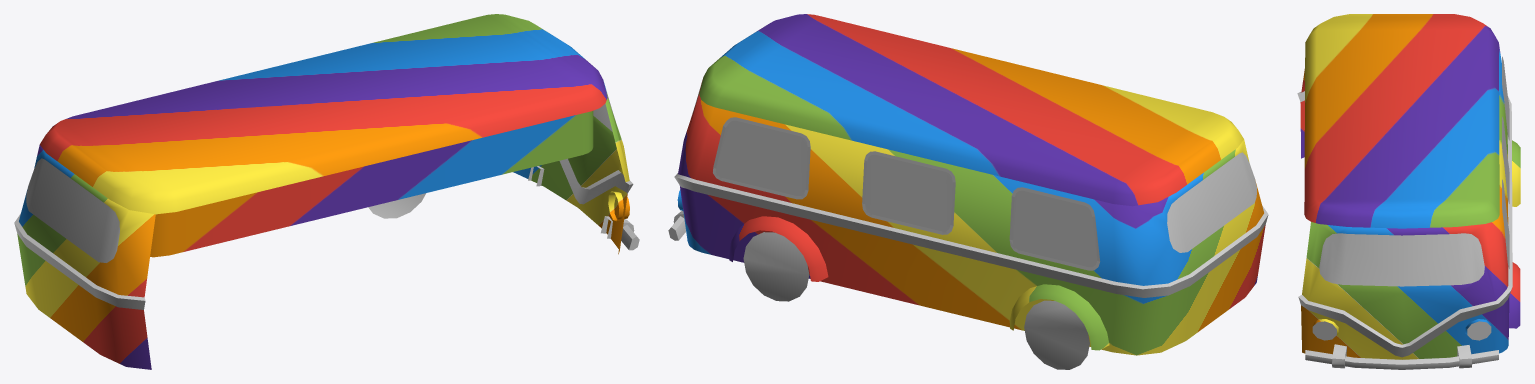
The model's file is Bus.fbx.
3 views of the same model, side by side, from view 1: azimuth 30°, elevation 25°; view 2: azimuth 150°, elevation 25°; view 3: azimuth 270°, elevation 25° (orthographic). The views are drawn at different scales.
Visible parts, largest first — view 1: Bus02, Bus01; view 2: Bus01, Bus02; view 3: Bus02, Bus01.
Part boxes in pixels (<box>): Bus02: <box>40,14,607,214</box>; Bus01: <box>14,83,639,369</box>; Bus01: <box>668,80,1268,369</box>; Bus02: <box>699,14,1243,206</box>; Bus02: <box>1304,14,1499,228</box>; Bus01: <box>1297,44,1520,369</box>.
Size of the model in its own units: 180 by 63.15 by 75.68.
